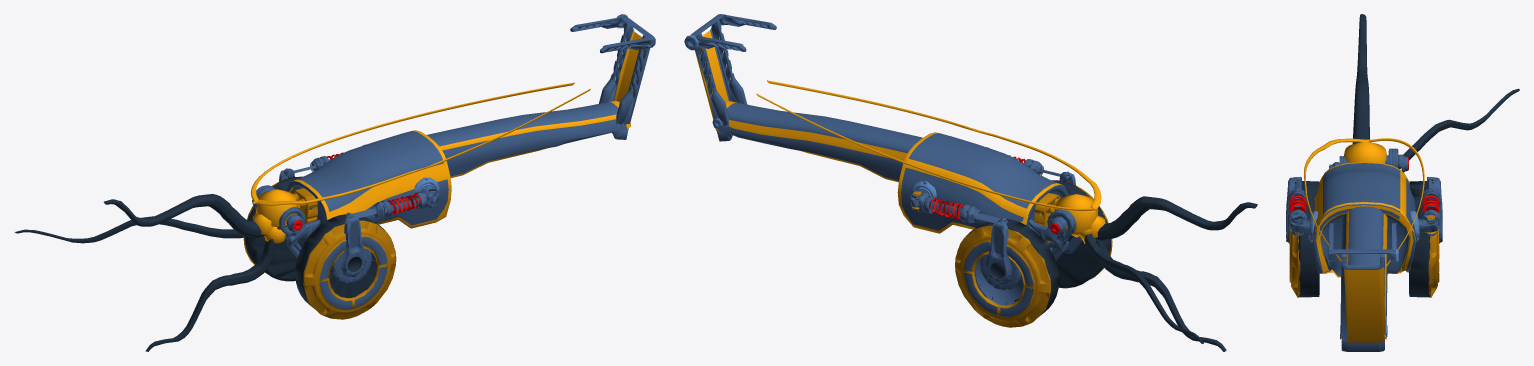
The model's file is KitbashedVehicle_LowPoly.fbx.
3 renders of one model, left to right at view 1: azimuth 30°, elevation 25°; view 2: azimuth 150°, elevation 25°; view 3: azimuth 270°, elevation 25°, orthographic. The views are drawn at different scales.
Parts seen in each view (by area): view 1: OU_Hard_Surface_2142; view 2: OU_Hard_Surface_2142; view 3: OU_Hard_Surface_2142.
Boxes of the visible parts, x1=… form: OU_Hard_Surface_2142: x1=14, y1=14, x2=655, y2=351; OU_Hard_Surface_2142: x1=684, y1=14, x2=1257, y2=351; OU_Hard_Surface_2142: x1=1286, y1=14, x2=1519, y2=351.
Size of the model in its own units: 484 by 168 by 159.
